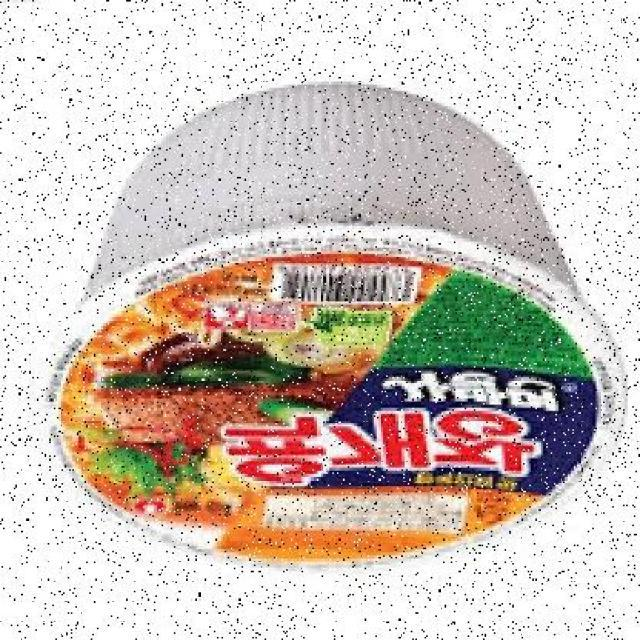Miscellaneous: (40, 70, 640, 576)
